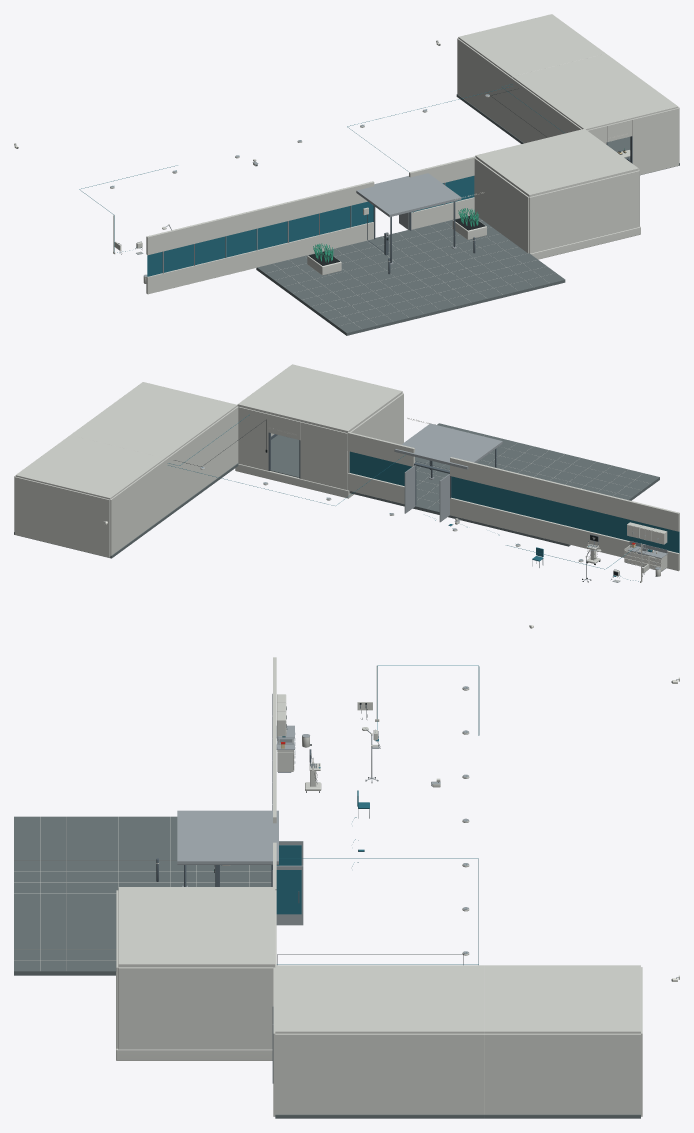
File: hospital-services.glb
3 renders of one model, top to bottom at view 1: azimuth 30°, elevation 25°; view 2: azimuth 150°, elevation 25°; view 3: azimuth 270°, elevation 25°, orthographic. The views are drawn at different scales.
Visible parts, largest first — view 1: Architecture__service-ivory, Architecture__service-floor, Ceiling__service-ivory, Architecture__service-blue, Architecture__service-metal, Exterior-context__service-ivory, Exterior-context__service-green; view 2: Architecture__service-ivory, Ceiling__service-ivory, Architecture__service-floor, Architecture__service-blue, Architecture__service-metal, Clinical-context__service-paper, Clinical-context__service-ivory, Architecture__service-steel, Clinical-context__service-metal; view 3: Architecture__service-ivory, Ceiling__service-ivory, Architecture__service-floor, Architecture__service-metal, Architecture__service-blue, Clinical-context__service-ivory.
Boxes of the visible parts, box(x1,y1,x2,y2) form: Architecture__service-ivory: box(146, 38, 679, 326); Architecture__service-floor: box(256, 94, 679, 335); Ceiling__service-ivory: box(458, 14, 678, 196); Architecture__service-blue: box(147, 176, 474, 276); Architecture__service-metal: box(162, 173, 461, 273); Exterior-context__service-ivory: box(307, 218, 486, 275); Exterior-context__service-green: box(313, 208, 478, 262); Architecture__service-ivory: box(14, 393, 679, 571); Ceiling__service-ivory: box(15, 364, 402, 499); Architecture__service-floor: box(14, 423, 659, 558); Architecture__service-blue: box(349, 451, 679, 553); Architecture__service-metal: box(394, 423, 502, 522); Clinical-context__service-paper: box(588, 525, 663, 582); Clinical-context__service-ivory: box(585, 522, 667, 576); Architecture__service-steel: box(268, 432, 496, 516); Clinical-context__service-metal: box(532, 532, 667, 582); Architecture__service-ivory: box(14, 657, 642, 1116); Ceiling__service-ivory: box(118, 887, 640, 1033); Architecture__service-floor: box(14, 816, 640, 1118); Architecture__service-metal: box(177, 693, 303, 925); Architecture__service-blue: box(276, 845, 301, 914); Clinical-context__service-ivory: box(277, 694, 377, 790).
Size of the model in its own units: 34.1 by 4.04 by 25.5.
